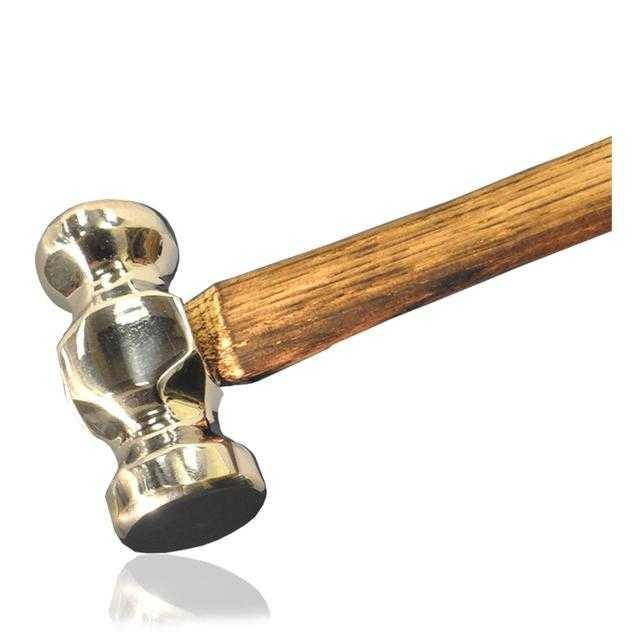hammer: (29, 118, 617, 559)
